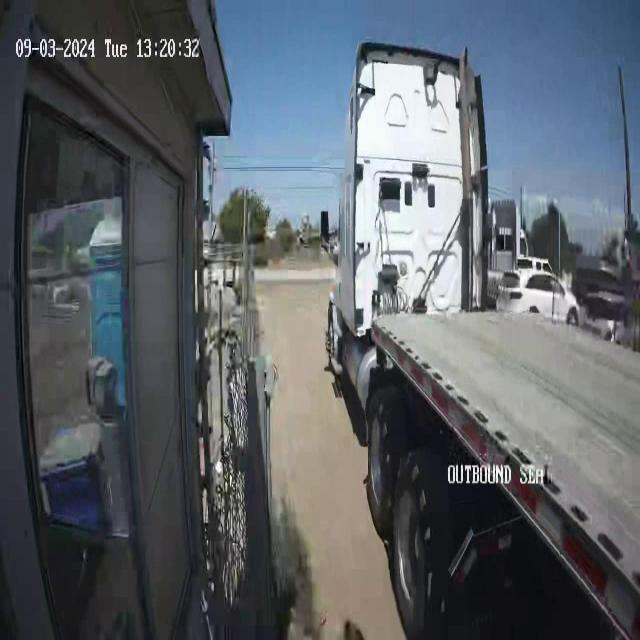TRUCK_OUT: (314, 33, 640, 640)
